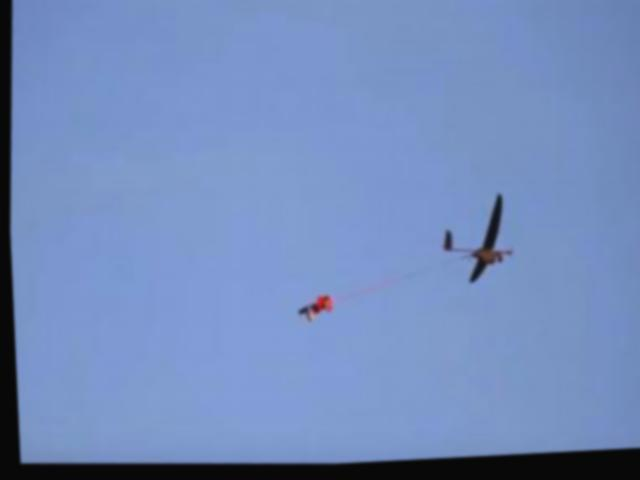uav: (433, 194, 515, 294)
